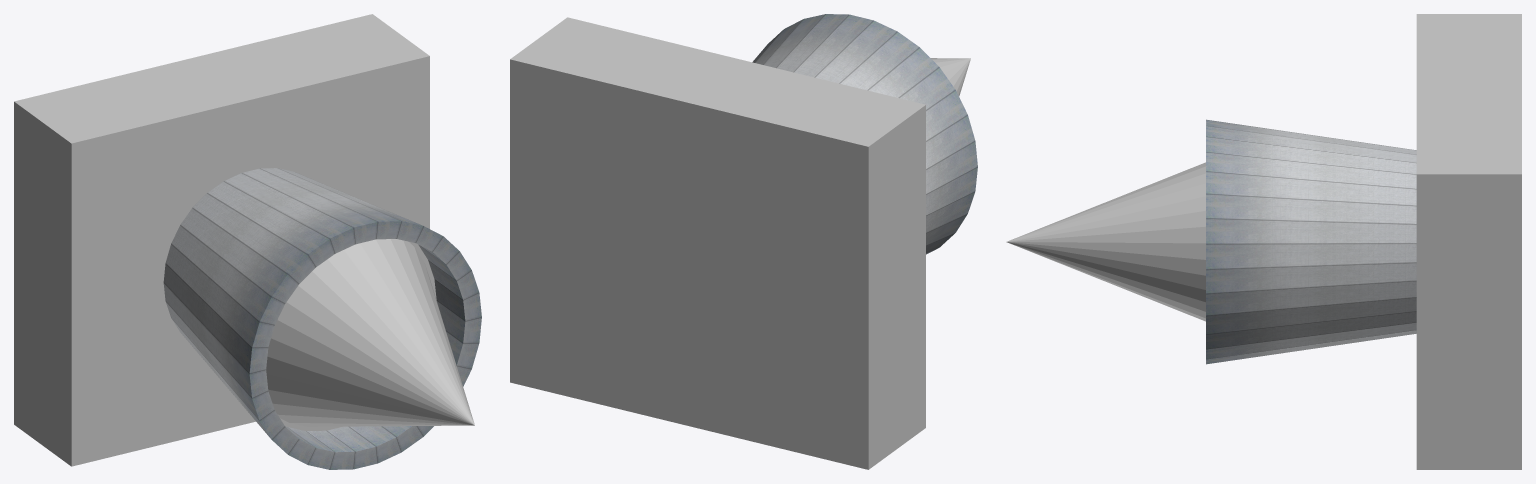
The model's file is propeller.obj.
3 renders of one model, left to right at view 1: azimuth 30°, elevation 25°; view 2: azimuth 150°, elevation 25°; view 3: azimuth 270°, elevation 25°, orthographic. The views are drawn at different scales.
Parts seen in each view (by area): view 1: default, flame, lid; view 2: default, flame; view 3: default, flame.
Boxes of the visible parts, x1,y1,x2,y2 form: default: (14,14,481,469); flame: (266,239,474,426); lid: (280,241,436,431); default: (510,14,977,469); flame: (931,58,970,96); default: (1206,14,1521,469); flame: (1006,162,1205,321).
Bounding box in the file's own units: 3.6 × 3.1 × 4.9.
